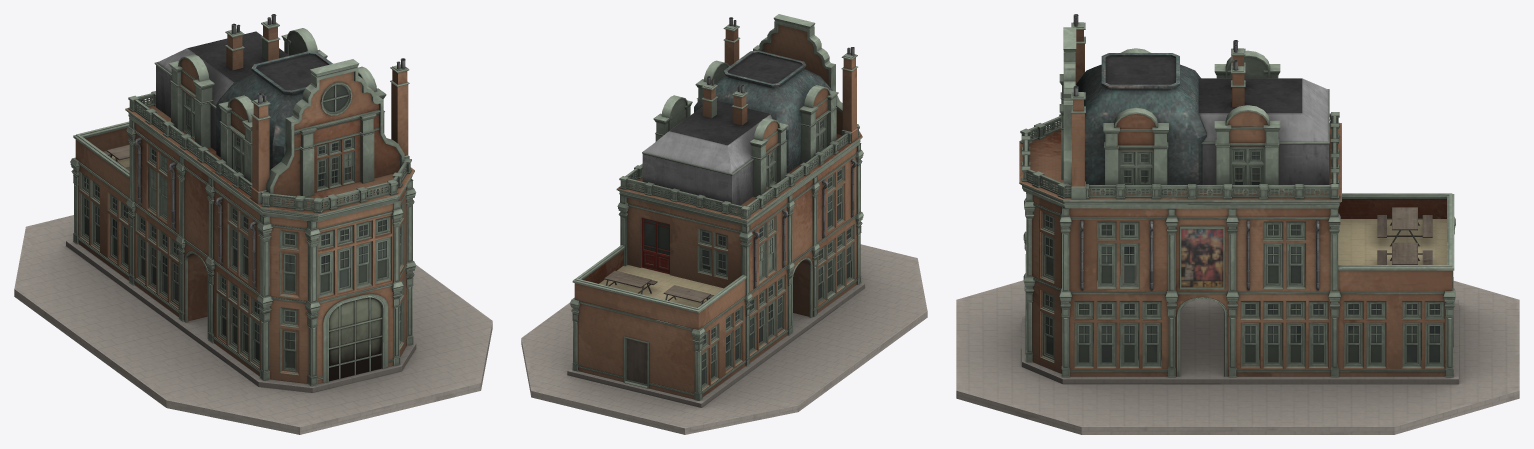
File: dom_txt.fbx
3 views of the same model, side by side, from view 1: azimuth 30°, elevation 25°; view 2: azimuth 150°, elevation 25°; view 3: azimuth 270°, elevation 25° (orthographic). The views are drawn at different scales.
Visible parts, largest first — view 1: Cylinder.020; view 2: Cylinder.020; view 3: Cylinder.020.
Part boxes in pixels (<box>): Cylinder.020: <box>14,14,492,434</box>; Cylinder.020: <box>521,14,927,434</box>; Cylinder.020: <box>956,14,1519,434</box>.
Bounding box in the file's own units: 2190 × 1964 × 3187.
1 material, 1 textured.
